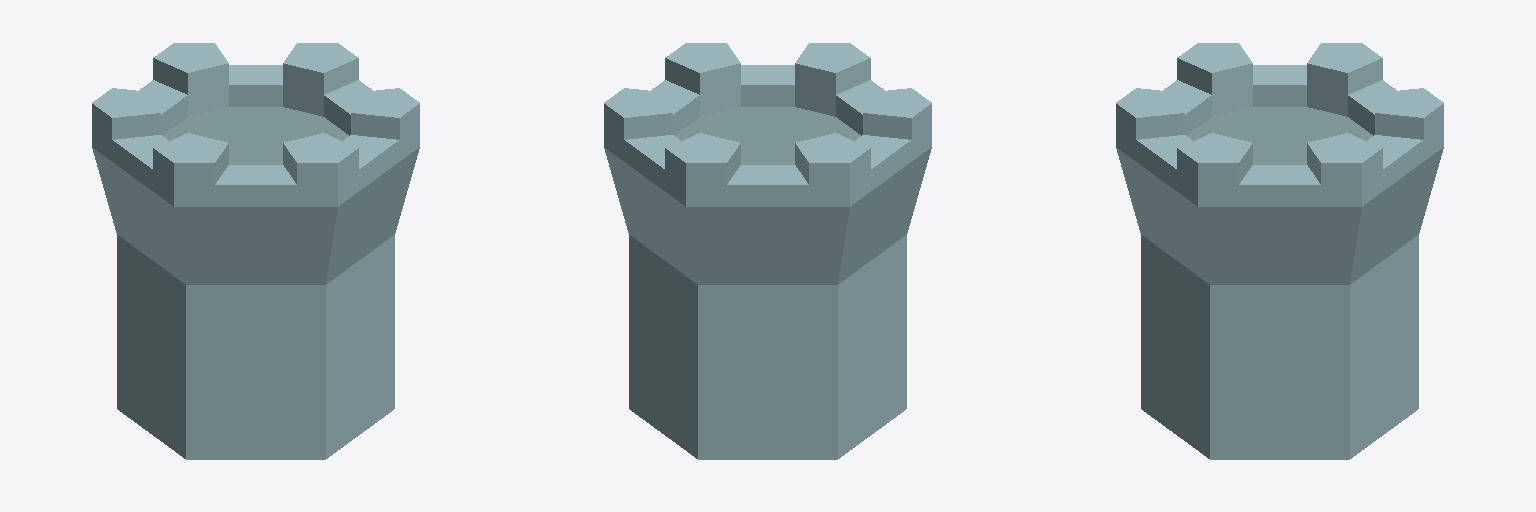
Rendered from unit_wallTower.obj.
3 renders of one model, left to right at view 1: azimuth 30°, elevation 25°; view 2: azimuth 150°, elevation 25°; view 3: azimuth 270°, elevation 25°, orthographic.
Parts seen in each view (by area): view 1: unit_wallTower; view 2: unit_wallTower; view 3: unit_wallTower.
Boxes of the visible parts, x1,y1,x2,y2 form: unit_wallTower: [92, 43, 419, 459]; unit_wallTower: [604, 43, 931, 459]; unit_wallTower: [1116, 43, 1443, 459].
Size of the model in its own units: 0.295 by 0.35 by 0.3406.